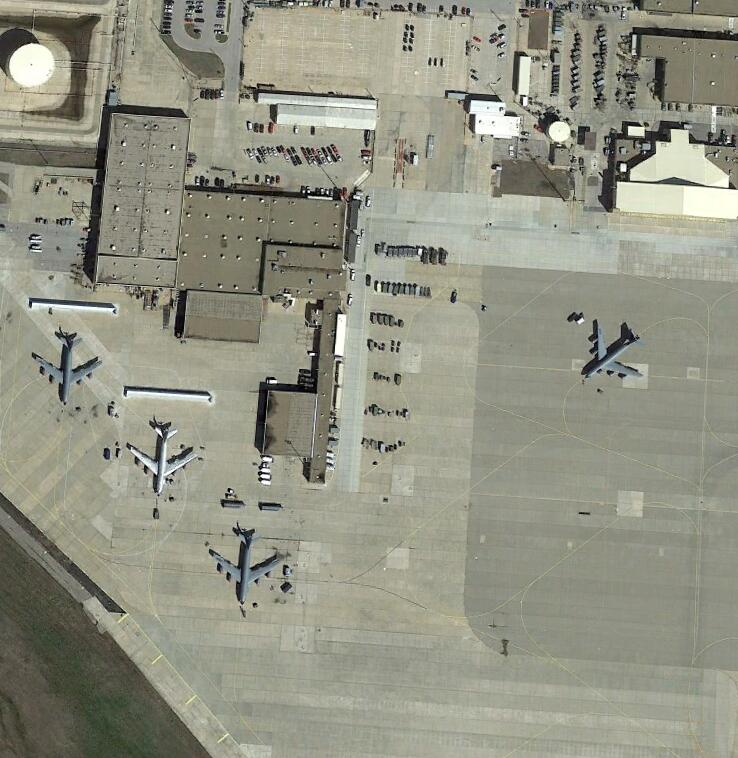A11: (129, 423, 198, 496)
A14: (211, 529, 284, 605), (31, 333, 103, 402), (582, 322, 646, 382)
